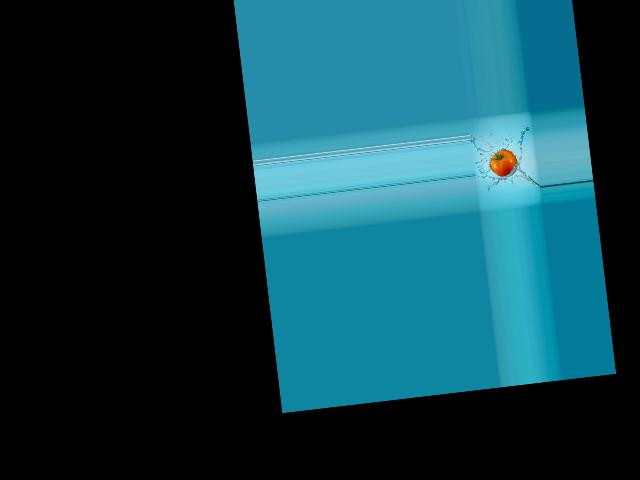tomato: (488, 148, 518, 178)
